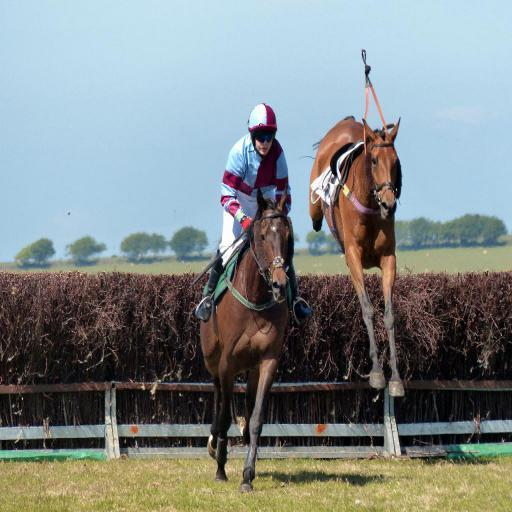horse: (298, 110, 404, 396), (196, 187, 292, 495)
